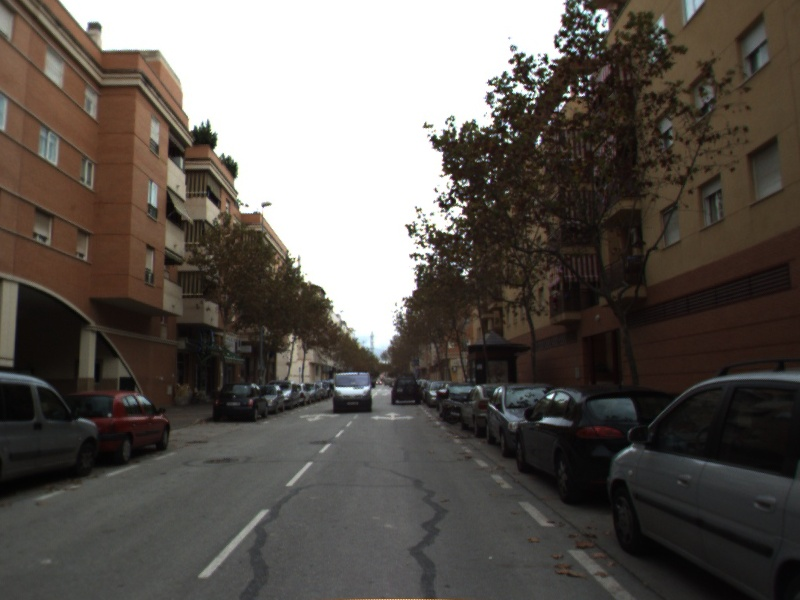STRAIGHT_LEFT_RIGHT: (369, 409, 417, 423)
